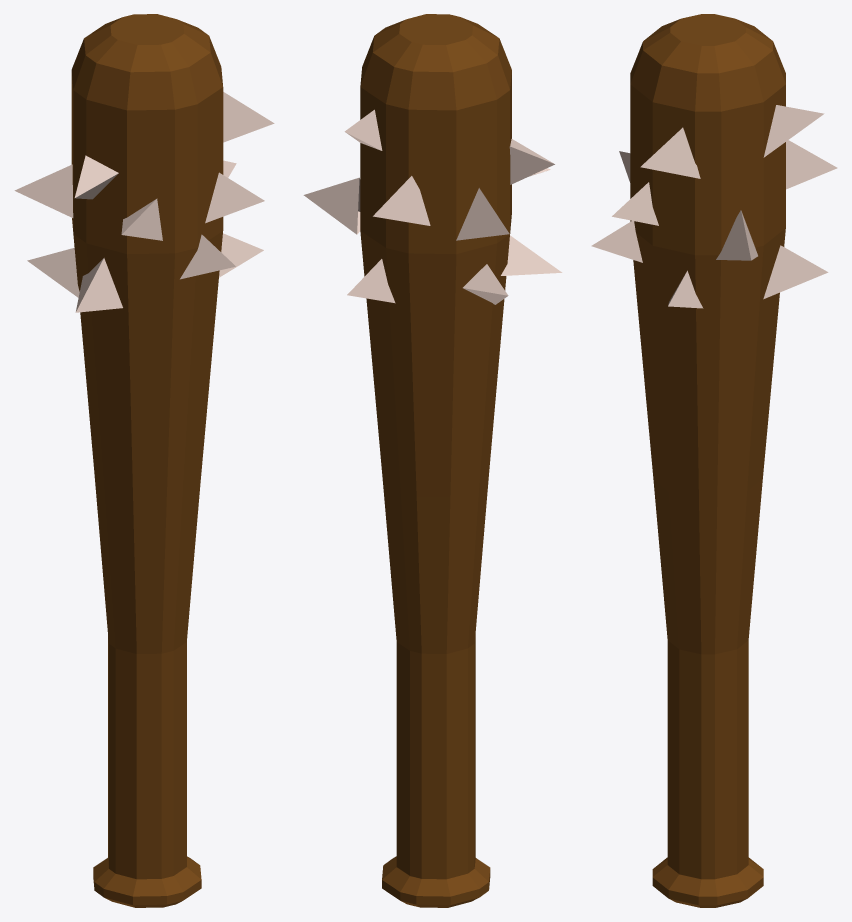
File: NailStick.fbx
The picture shows the model from 3 angles, left to right: view 1: azimuth 30°, elevation 25°; view 2: azimuth 150°, elevation 25°; view 3: azimuth 270°, elevation 25°; orthographic projection.
Parts seen in each view (by area): view 1: NailStick; view 2: NailStick; view 3: NailStick.
Part boxes in pixels (x1,y1,x2,y2): NailStick: (14,14,274,907); NailStick: (303,14,562,907); NailStick: (591,14,837,907).
Size of the model in its own units: 64.84 by 248 by 64.74.
